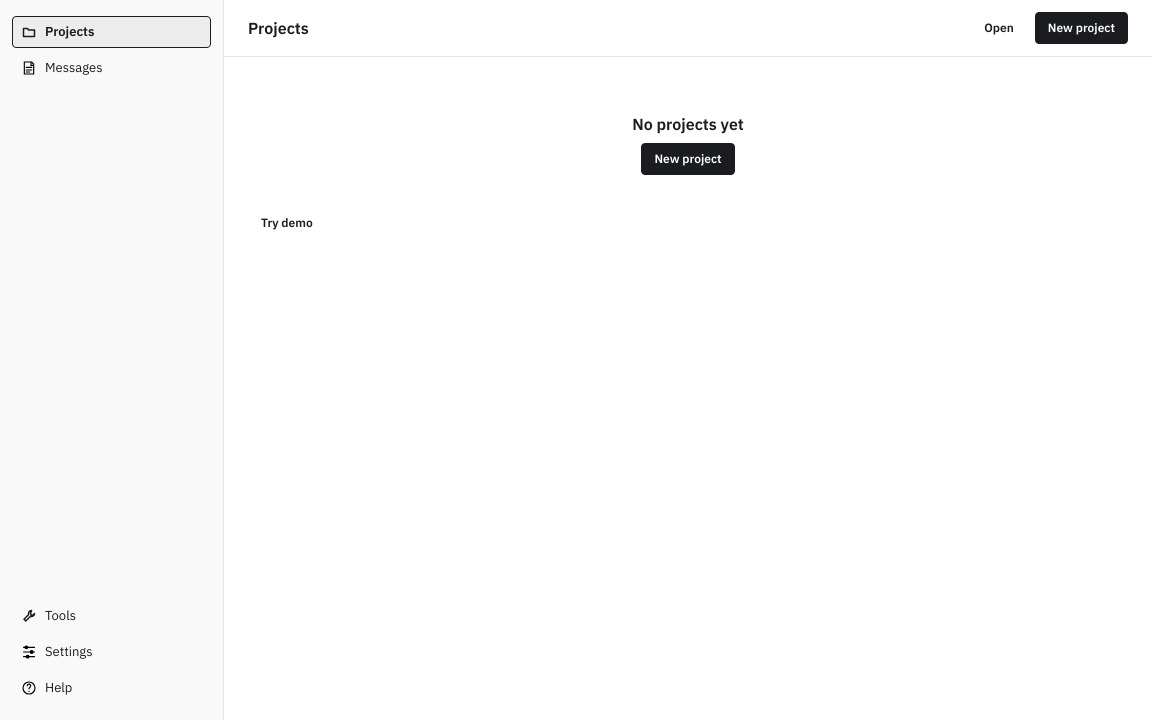
Test: a refused project creation stays in the sheet beside what was typed
The width and height of the screenshot is (1152, 720).
Check: the navigation bar named "Main" is shown, box [0, 0, 224, 719]
Click the 1st button "New project". click: (1081, 28)
box: [1035, 12, 1128, 44]
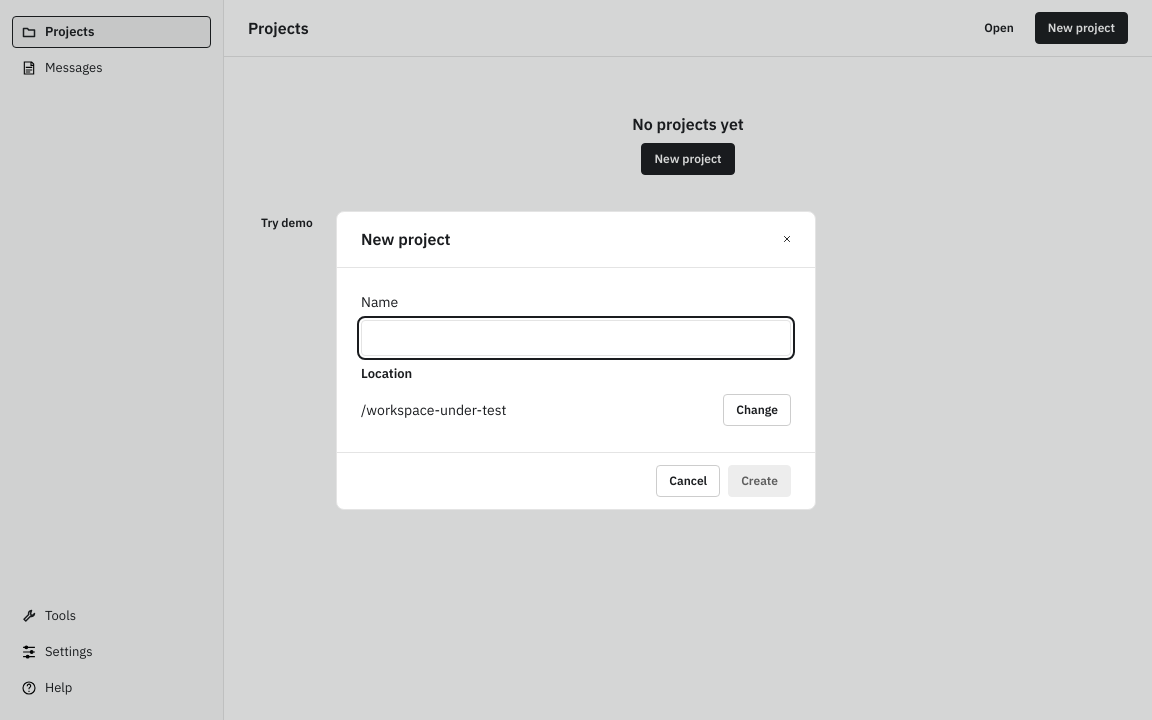
Check: the text "/workspace-under-test" is shown, box [361, 400, 506, 418]
Type "Scheduling investigation" into the field labelled "Name". click: (576, 338)
box: [361, 320, 791, 356]
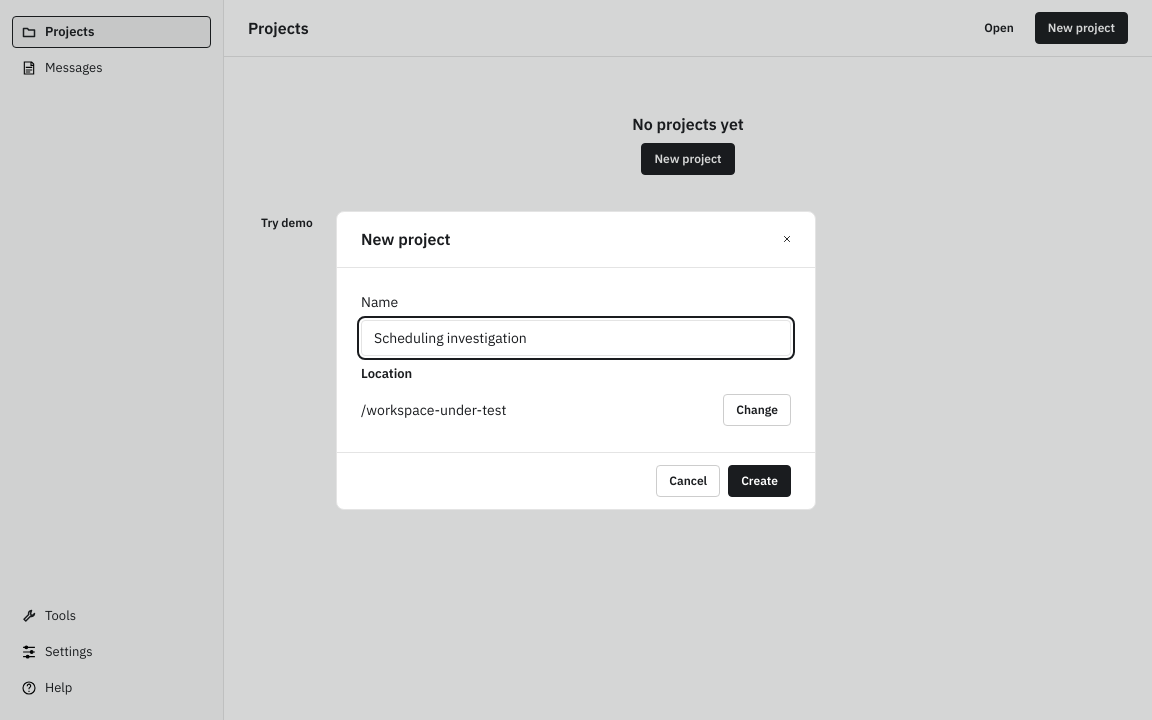
Click the button "Create". click: (760, 480)
box: [728, 464, 791, 496]
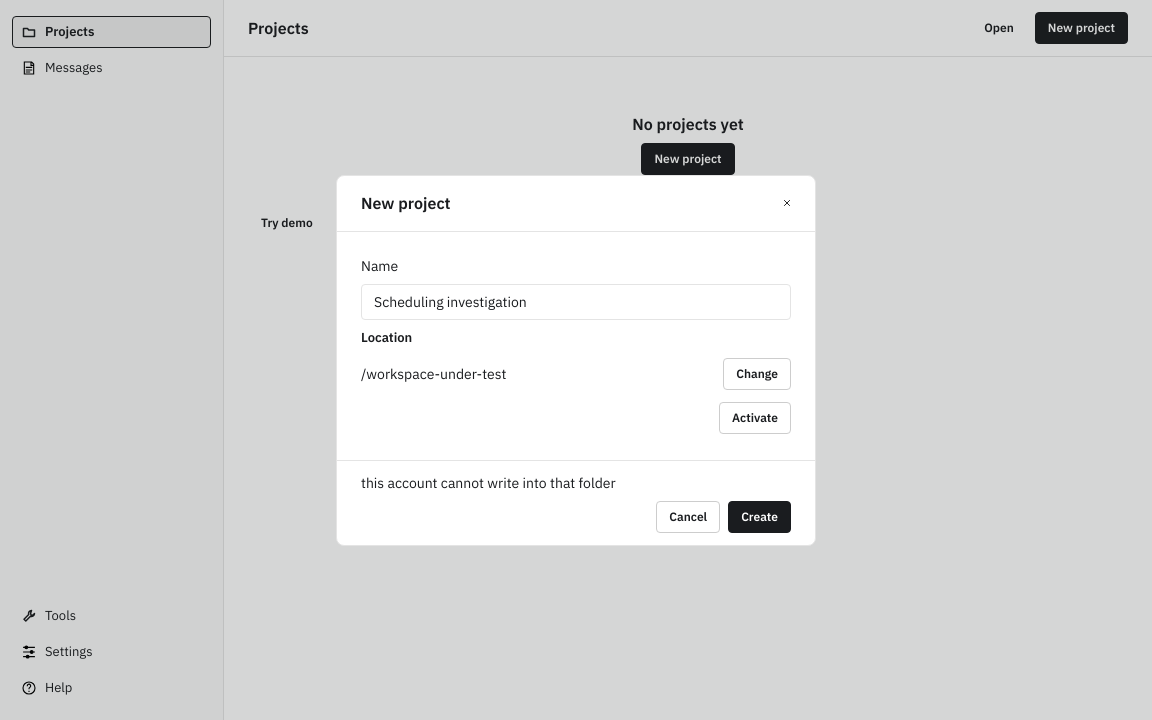
Check: the text "this account cannot write into that folder" is shown, box [361, 474, 616, 492]
